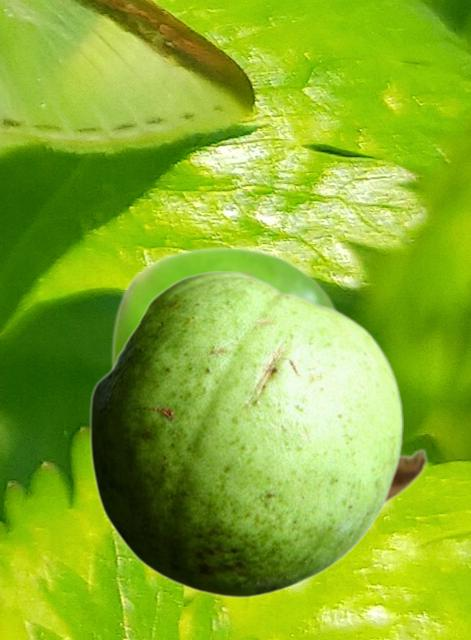guava: (89, 271, 402, 597), (110, 245, 428, 506)
